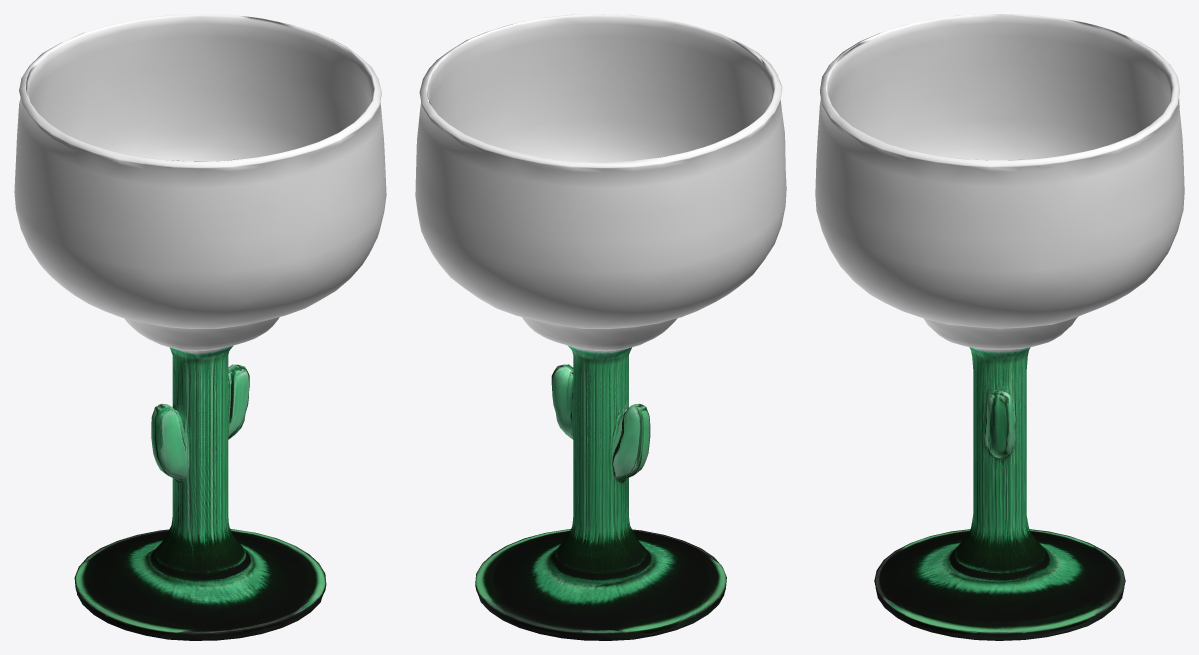
The model's file is Glass_Cactus_Margarita_10InchTall_TableTop_0222192958_texture.glb.
3 renders of one model, left to right at view 1: azimuth 30°, elevation 25°; view 2: azimuth 150°, elevation 25°; view 3: azimuth 270°, elevation 25°, orthographic.
Visible parts, largest first — view 1: Mesh_0; view 2: Mesh_0; view 3: Mesh_0.
Part boxes in pixels (bbox=[...]): Mesh_0: bbox=[14, 14, 386, 640]; Mesh_0: bbox=[415, 14, 786, 640]; Mesh_0: bbox=[815, 14, 1184, 640].
Bounding box in the file's own units: 0.169 × 0.254 × 0.1695.
1 material, 1 textured.
